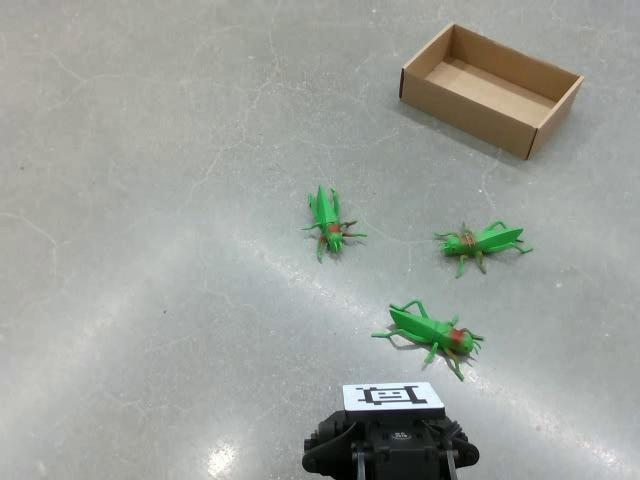box: (398, 21, 584, 160)
grasshopper: (370, 298, 484, 381), (432, 219, 533, 278), (299, 183, 367, 263)
